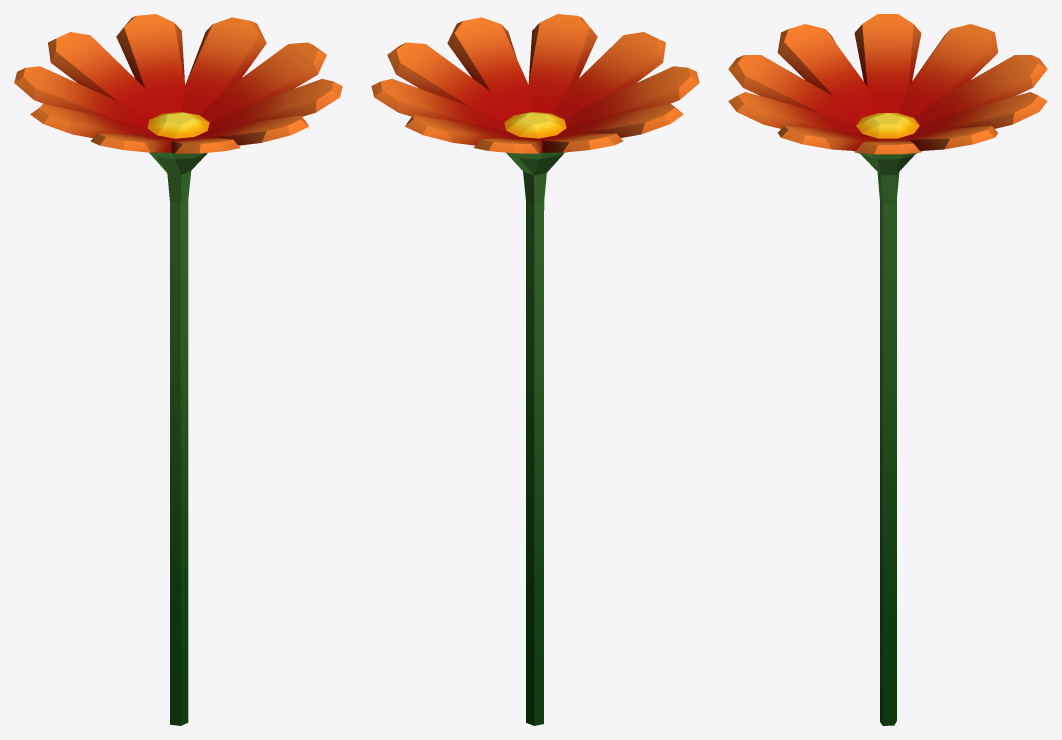
Rendered from Flower_Red_01.fbx.
The picture shows the model from 3 angles, left to right: view 1: azimuth 30°, elevation 25°; view 2: azimuth 150°, elevation 25°; view 3: azimuth 270°, elevation 25°; orthographic projection.
Visible parts, largest first — view 1: Flower_Red_01; view 2: Flower_Red_01; view 3: Flower_Red_01.
Boxes of the visible parts, <box> form: Flower_Red_01: <box>14,14,342,725</box>; Flower_Red_01: <box>371,14,699,725</box>; Flower_Red_01: <box>728,14,1047,725</box>.
Size of the model in its own units: 20 by 43.36 by 19.52.
